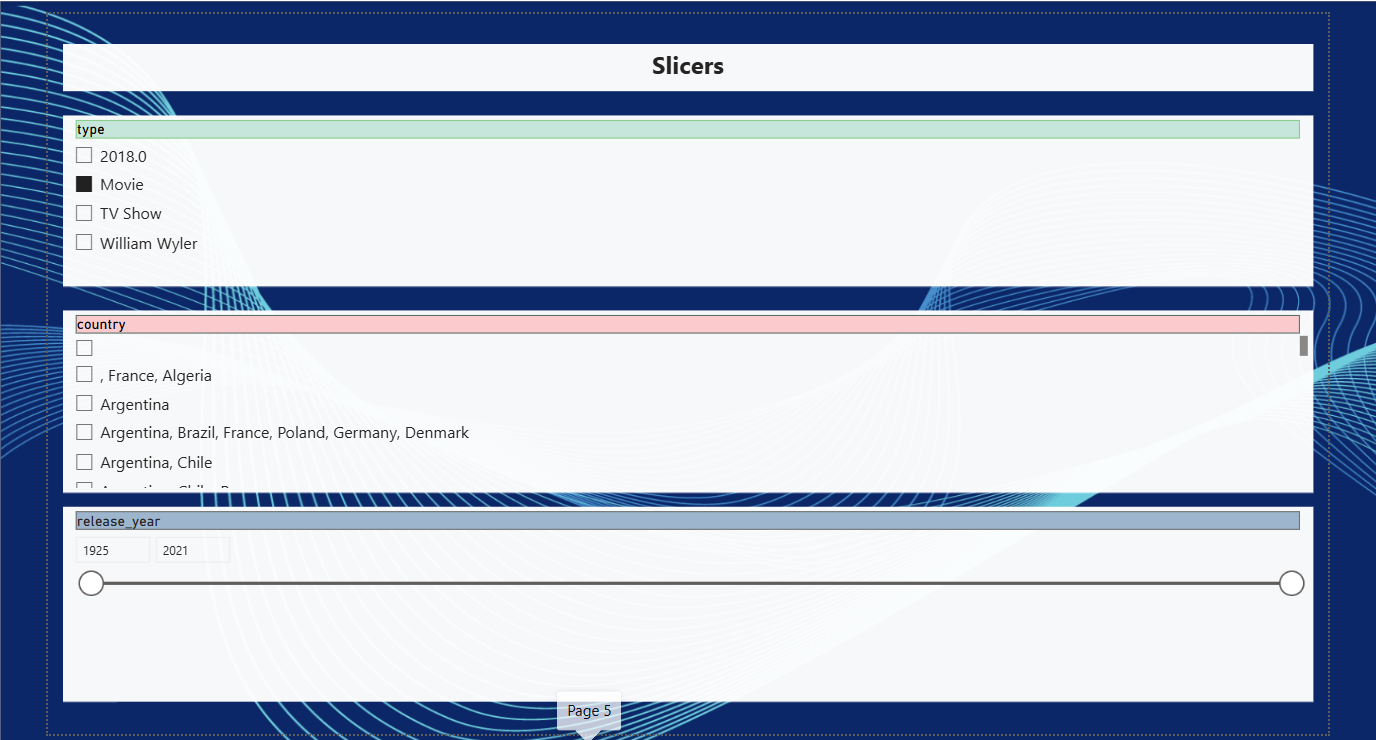

The page's visual inventory and layout, read from the dashboard file:
{"tool":"powerbi","page":{"name":"Page 5","canvas":[1280,720],"ordinal":4},"visuals":[{"type":"textbox","box":[15,30,1250,47.5],"z":0},{"type":"slicer","fields":{"Values":["netflix_cleaned.type"]},"box":[15,101.2,1250,171.2],"z":1000},{"type":"slicer","fields":{"Values":["netflix_cleaned.country"]},"box":[15,296.2,1250,182.5],"z":2000},{"type":"slicer","fields":{"Values":["netflix_cleaned.release_year"]},"box":[15,492.5,1250,195],"z":3000}]}

Visuals, with their boxes on the page's 1280x720 design canvas (x1, y1, x2, y2). These are canvas units, not pixel positions in the 1376x740 screenshot, which may show the page scaled, cropped or inside an application window:
textbox: <bbox>15, 30, 1265, 78</bbox>
slicer - netflix_cleaned.type: <bbox>15, 101, 1265, 272</bbox>
slicer - netflix_cleaned.country: <bbox>15, 296, 1265, 479</bbox>
slicer - netflix_cleaned.release_year: <bbox>15, 492, 1265, 688</bbox>
